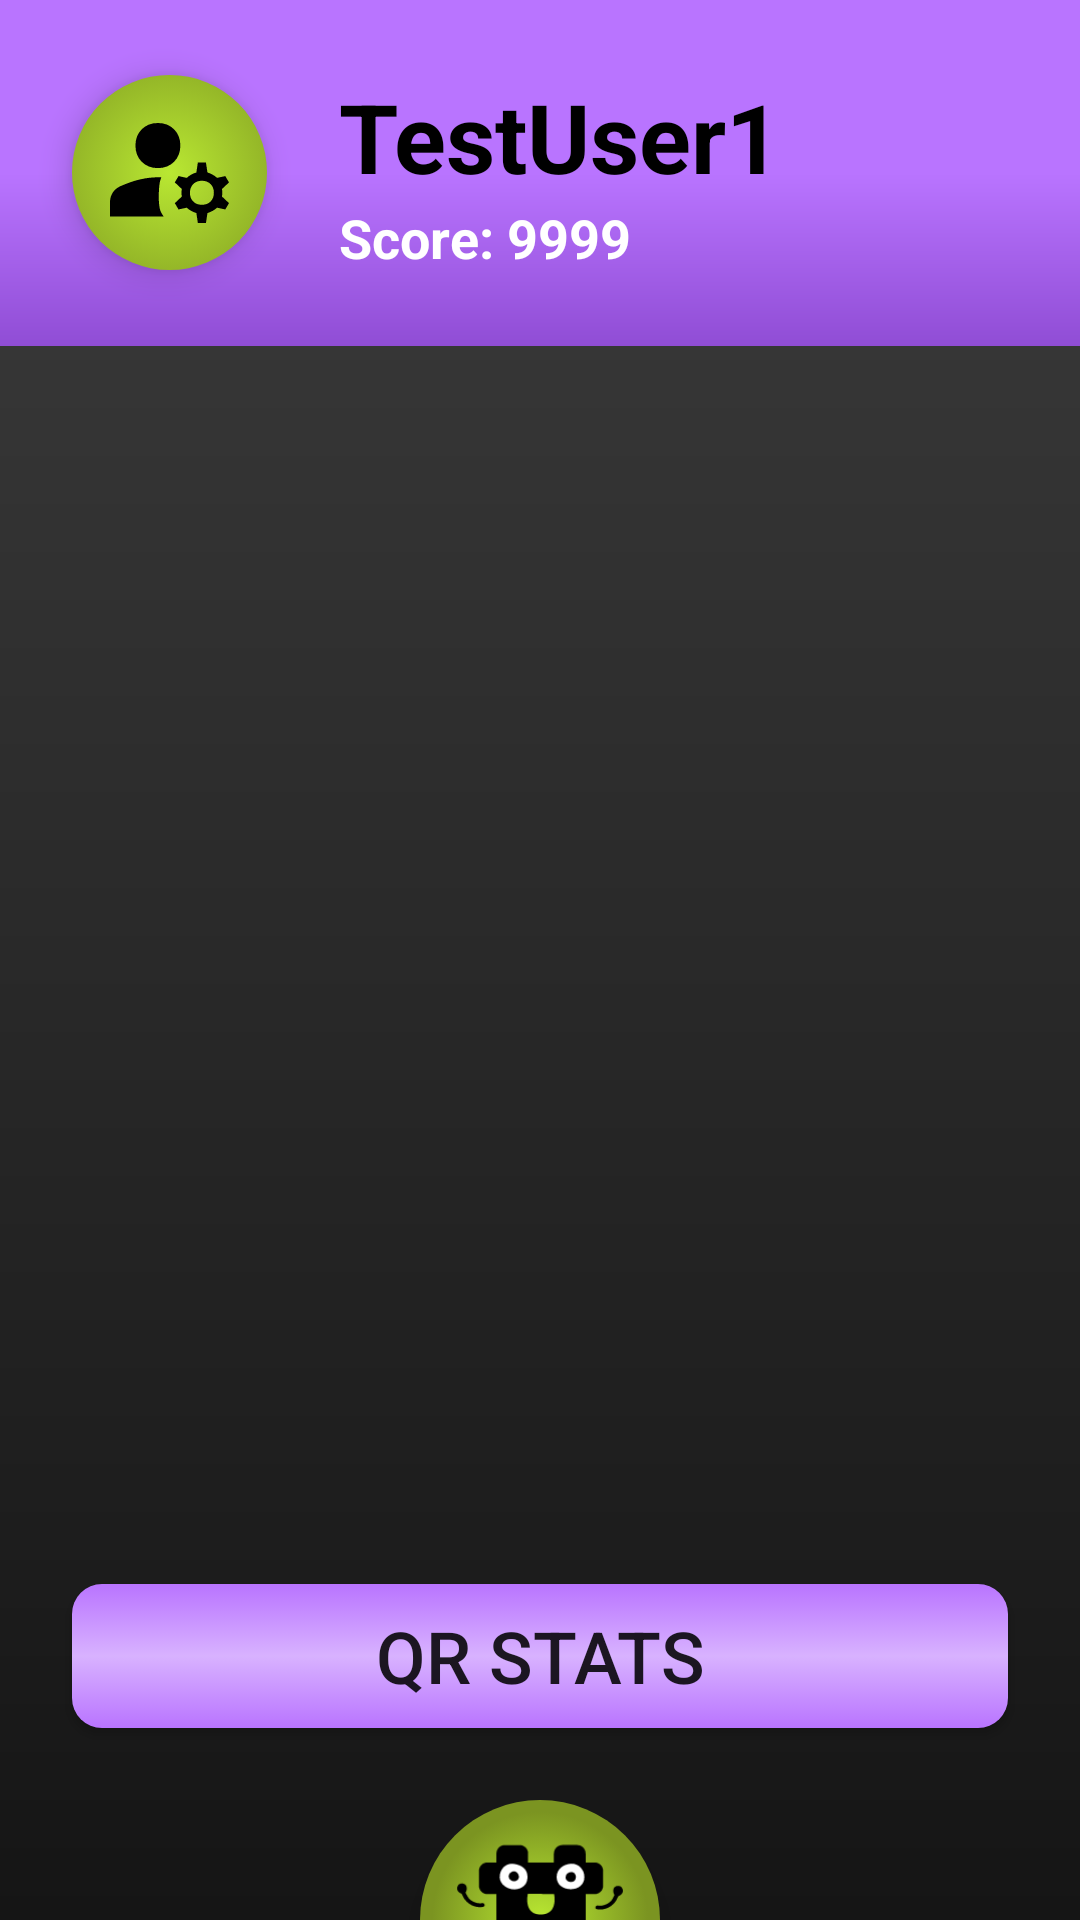

Icon bounding boxes for this 1080 × 1920 phone screenshot, format (x1, y1, x2, y2):
settings: (72, 75, 267, 270)
